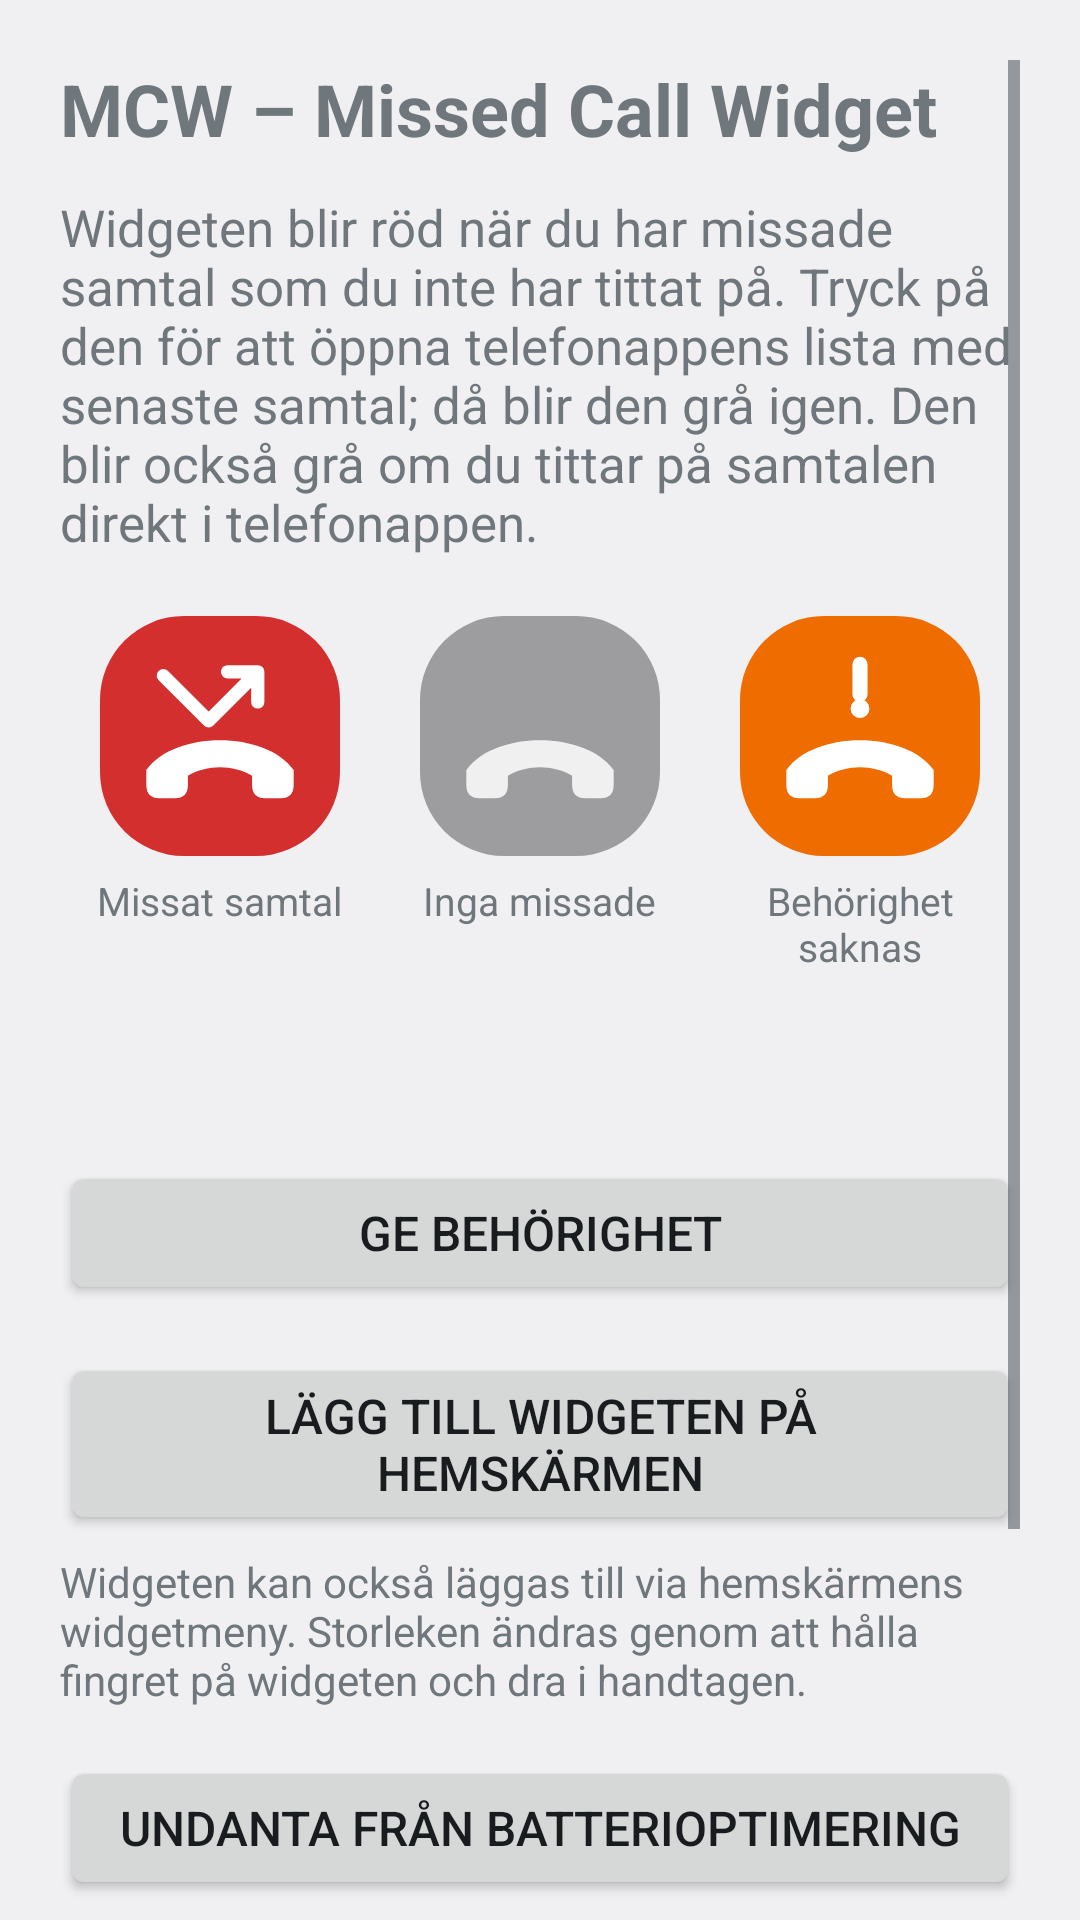

Icons on this 1080*1920 Android screen, each with the point to tap as [x,y]:
idle: [540,736]
